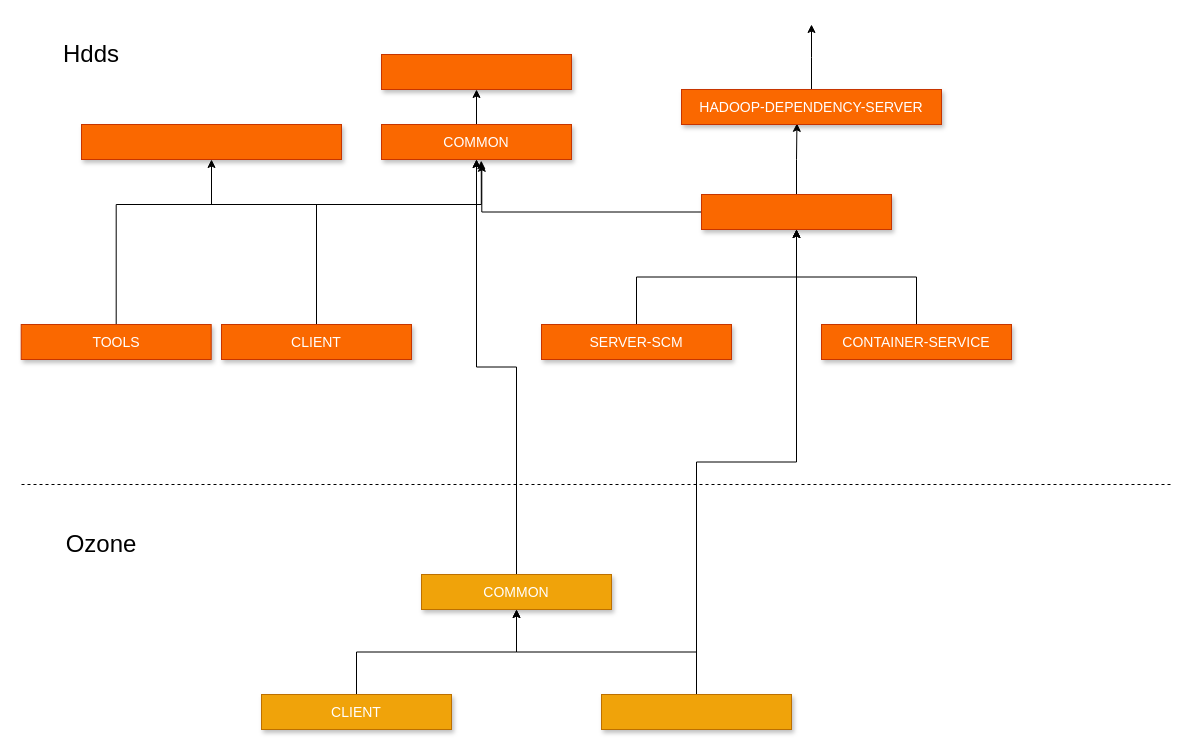
This 1191x754 diagram has some shape labels left out. Here are the shapes that lost their labels. From the top down, the centre of each, then its label:
[477,73]: CONFING
[212,143]: HADOOP-DEPENDENCY-CLIENT
[797,213]: FRAMEWORK
[697,713]: OZONE-MANAGER
